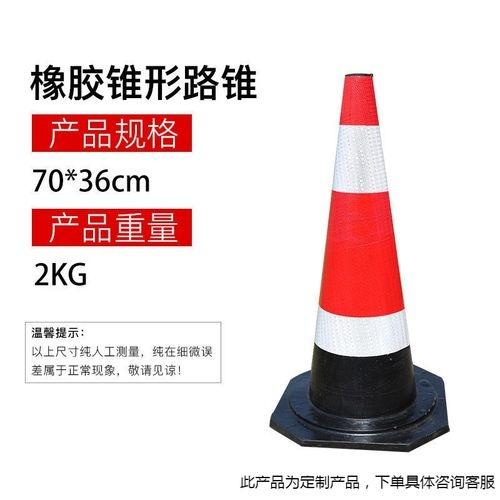cone_barrel: (281, 75, 440, 449)
